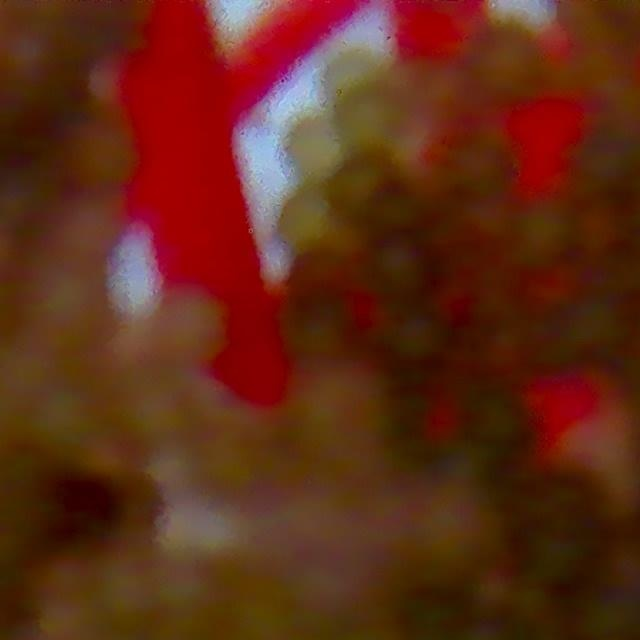SeaGrape: (31, 267, 108, 362), (469, 25, 549, 106), (157, 287, 237, 368), (46, 399, 123, 481), (75, 122, 146, 195), (445, 129, 515, 198), (506, 203, 574, 273), (280, 302, 351, 369), (322, 156, 396, 220), (336, 90, 402, 153), (284, 121, 349, 184), (470, 391, 534, 454), (274, 190, 336, 253), (566, 295, 627, 357), (370, 237, 430, 299), (390, 311, 447, 368), (371, 186, 422, 236), (604, 540, 640, 596)
